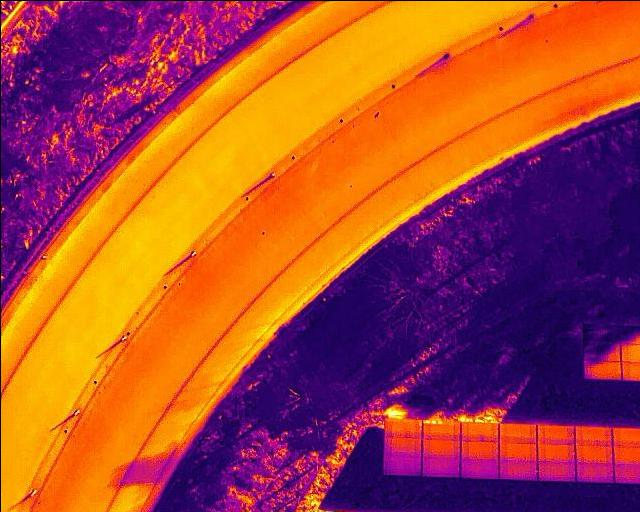Cell-Multi: (422, 420, 459, 438)
No-Anomaly: (383, 452, 422, 475), (458, 456, 498, 476), (422, 434, 458, 456), (499, 457, 536, 478), (537, 440, 574, 461), (420, 455, 458, 475), (460, 436, 498, 456), (574, 462, 613, 481), (537, 461, 575, 480), (383, 434, 421, 452), (385, 418, 421, 437), (497, 440, 537, 457), (575, 443, 612, 461), (498, 423, 536, 440), (575, 425, 612, 442), (536, 424, 573, 440), (461, 420, 498, 436)
Shadowing: (583, 341, 619, 361), (584, 360, 621, 377), (582, 323, 619, 340)
